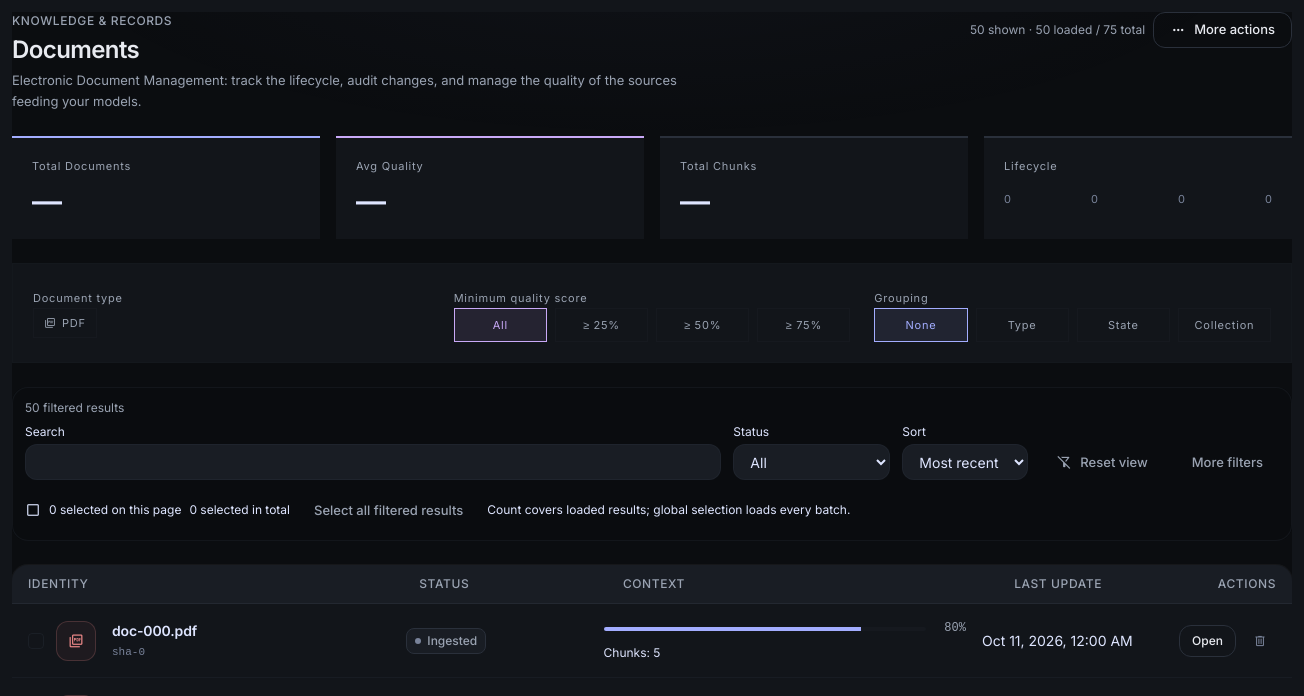
Test: loads every server batch for an explicit global selection
expect the button "doc-000.pdf" is shown: met, box [112,621,197,641]
Click the button "Select all filtered results".
click(389, 510)  # box [298,492,479,528]
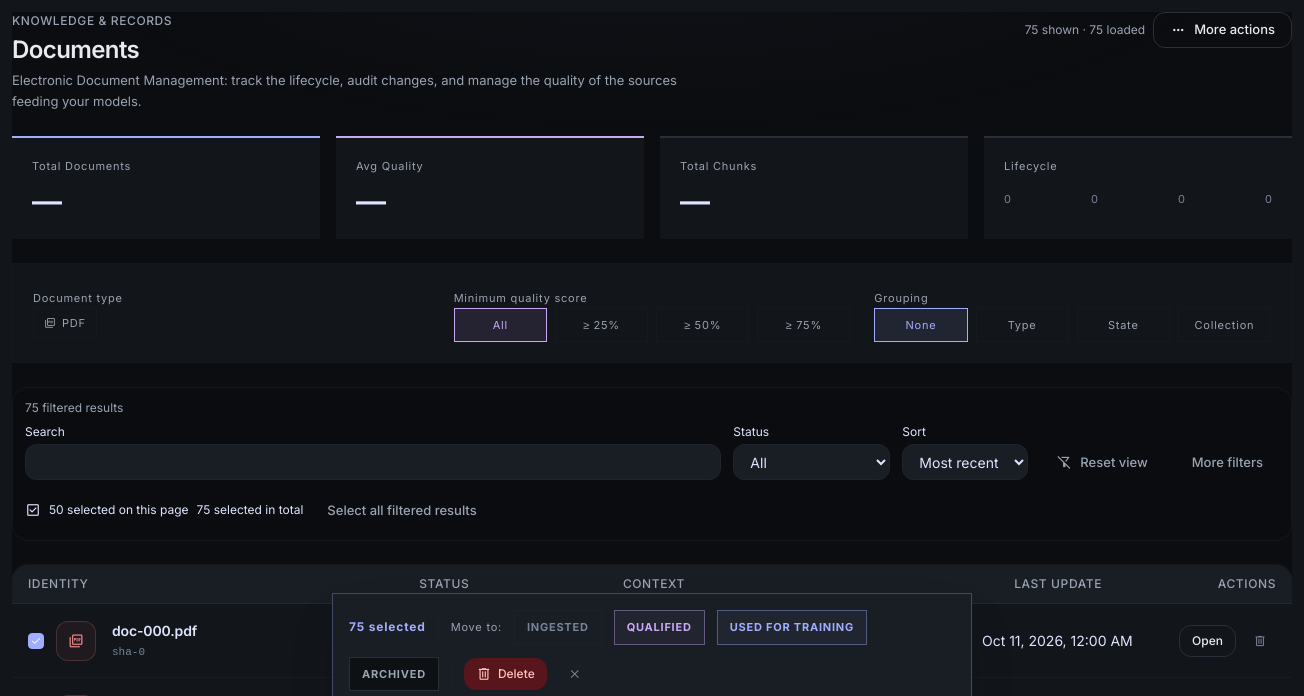
expect the text "75 selected in total" is shown: met, box [196,502,303,518]
expect the checkbox "50 selected on this page" is shown: met, box [25,492,188,528]
